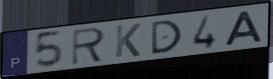4: (191, 13, 221, 50)
5: (33, 28, 66, 70)
A: (223, 9, 265, 47)
D: (149, 18, 184, 57)
K: (113, 22, 143, 59)
R: (70, 26, 108, 67)
